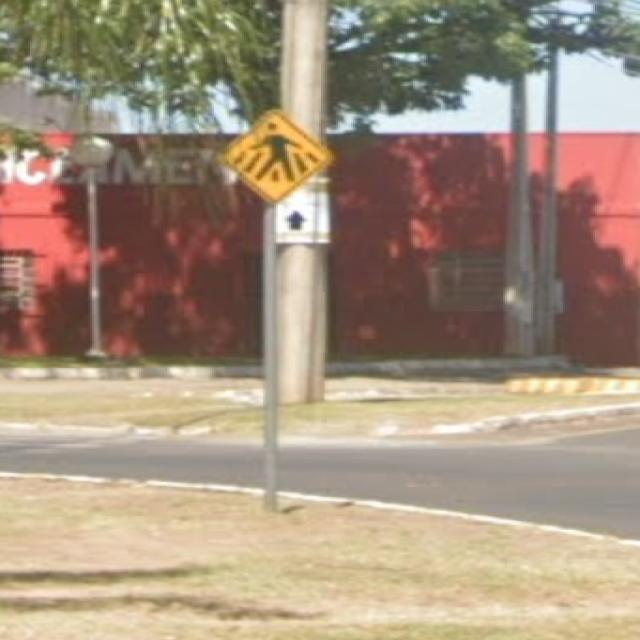pedestrian crossing: (202, 99, 346, 211)
